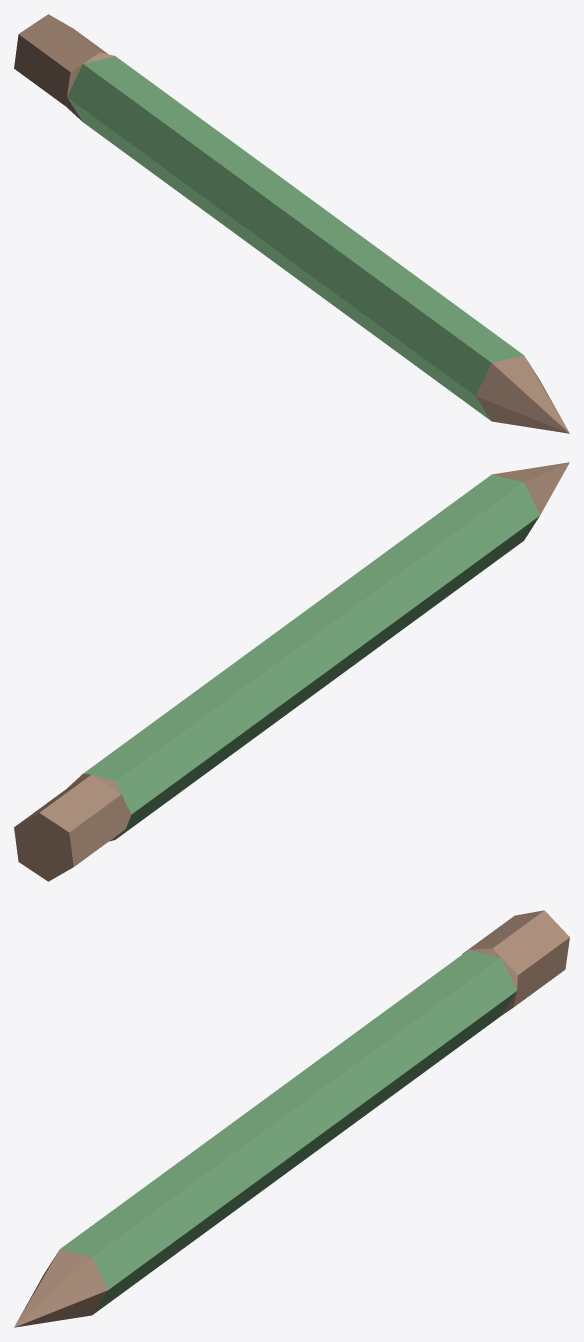
File: pen.fbx
The picture shows the model from 3 angles, top to bottom: view 1: azimuth 30°, elevation 25°; view 2: azimuth 150°, elevation 25°; view 3: azimuth 330°, elevation 25°; orthographic projection.
Parts seen in each view (by area): view 1: pCylinder12; view 2: pCylinder12; view 3: pCylinder12.
Boxes of the visible parts, box(x1,y1,x2,y2) form: pCylinder12: box(14, 14, 569, 433); pCylinder12: box(14, 462, 569, 881); pCylinder12: box(14, 910, 569, 1327).
Bounding box in the file's own units: 0.6609 × 0.6544 × 9.34.
